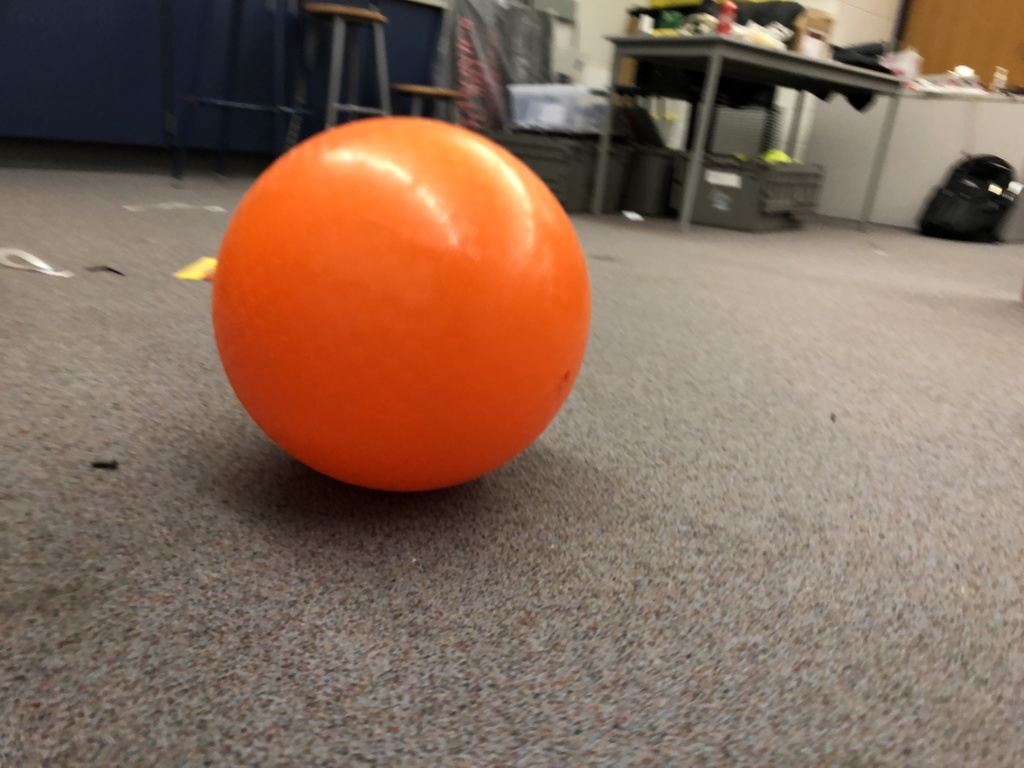cargo: (198, 101, 593, 501)
